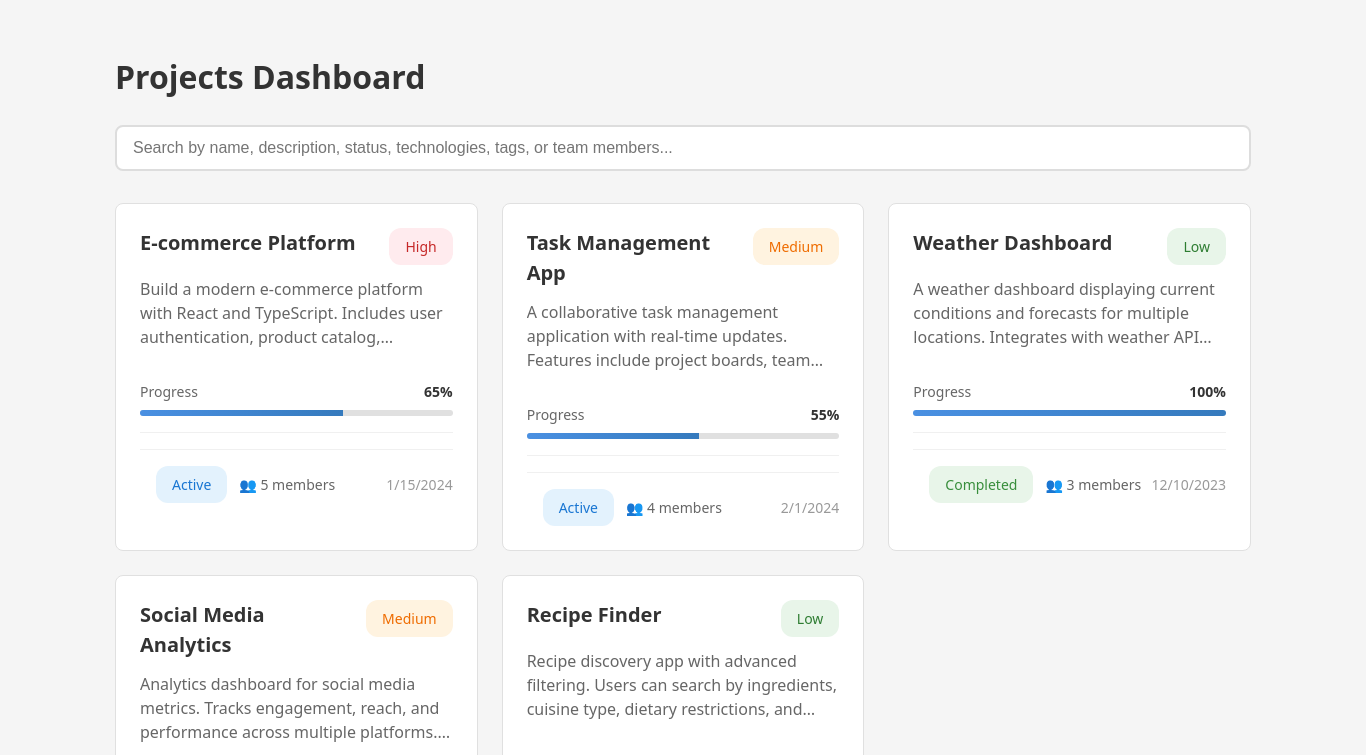
it: ProjectsList › filters projects by priority
Expected: the heading "E-commerce Platform" is shown, [140,228,381,258]
Step 1. Type "high" into the field named "Search projects" → coordinates (683, 148), box [115,125,1251,171]
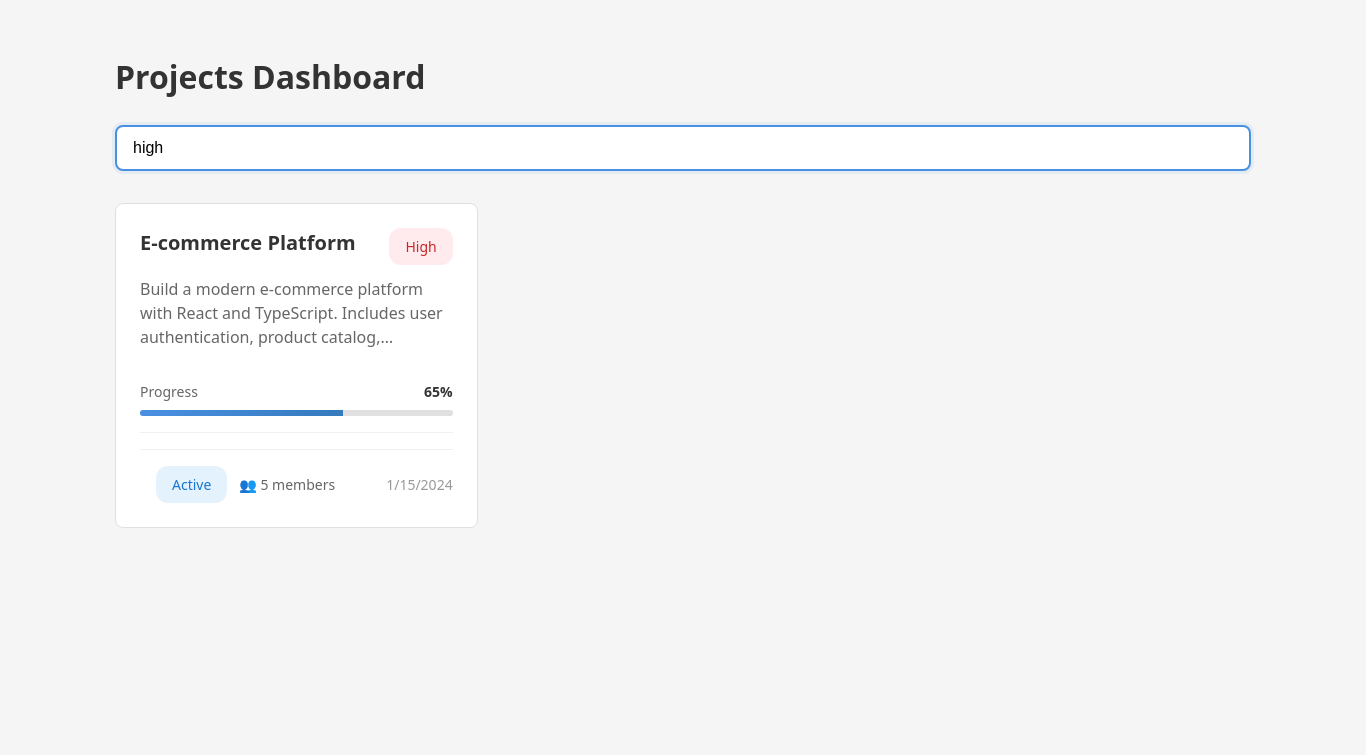
Expected: the heading "E-commerce Platform" is shown, [140,228,381,258]
Result: the link "Recipe Finder" is gone
